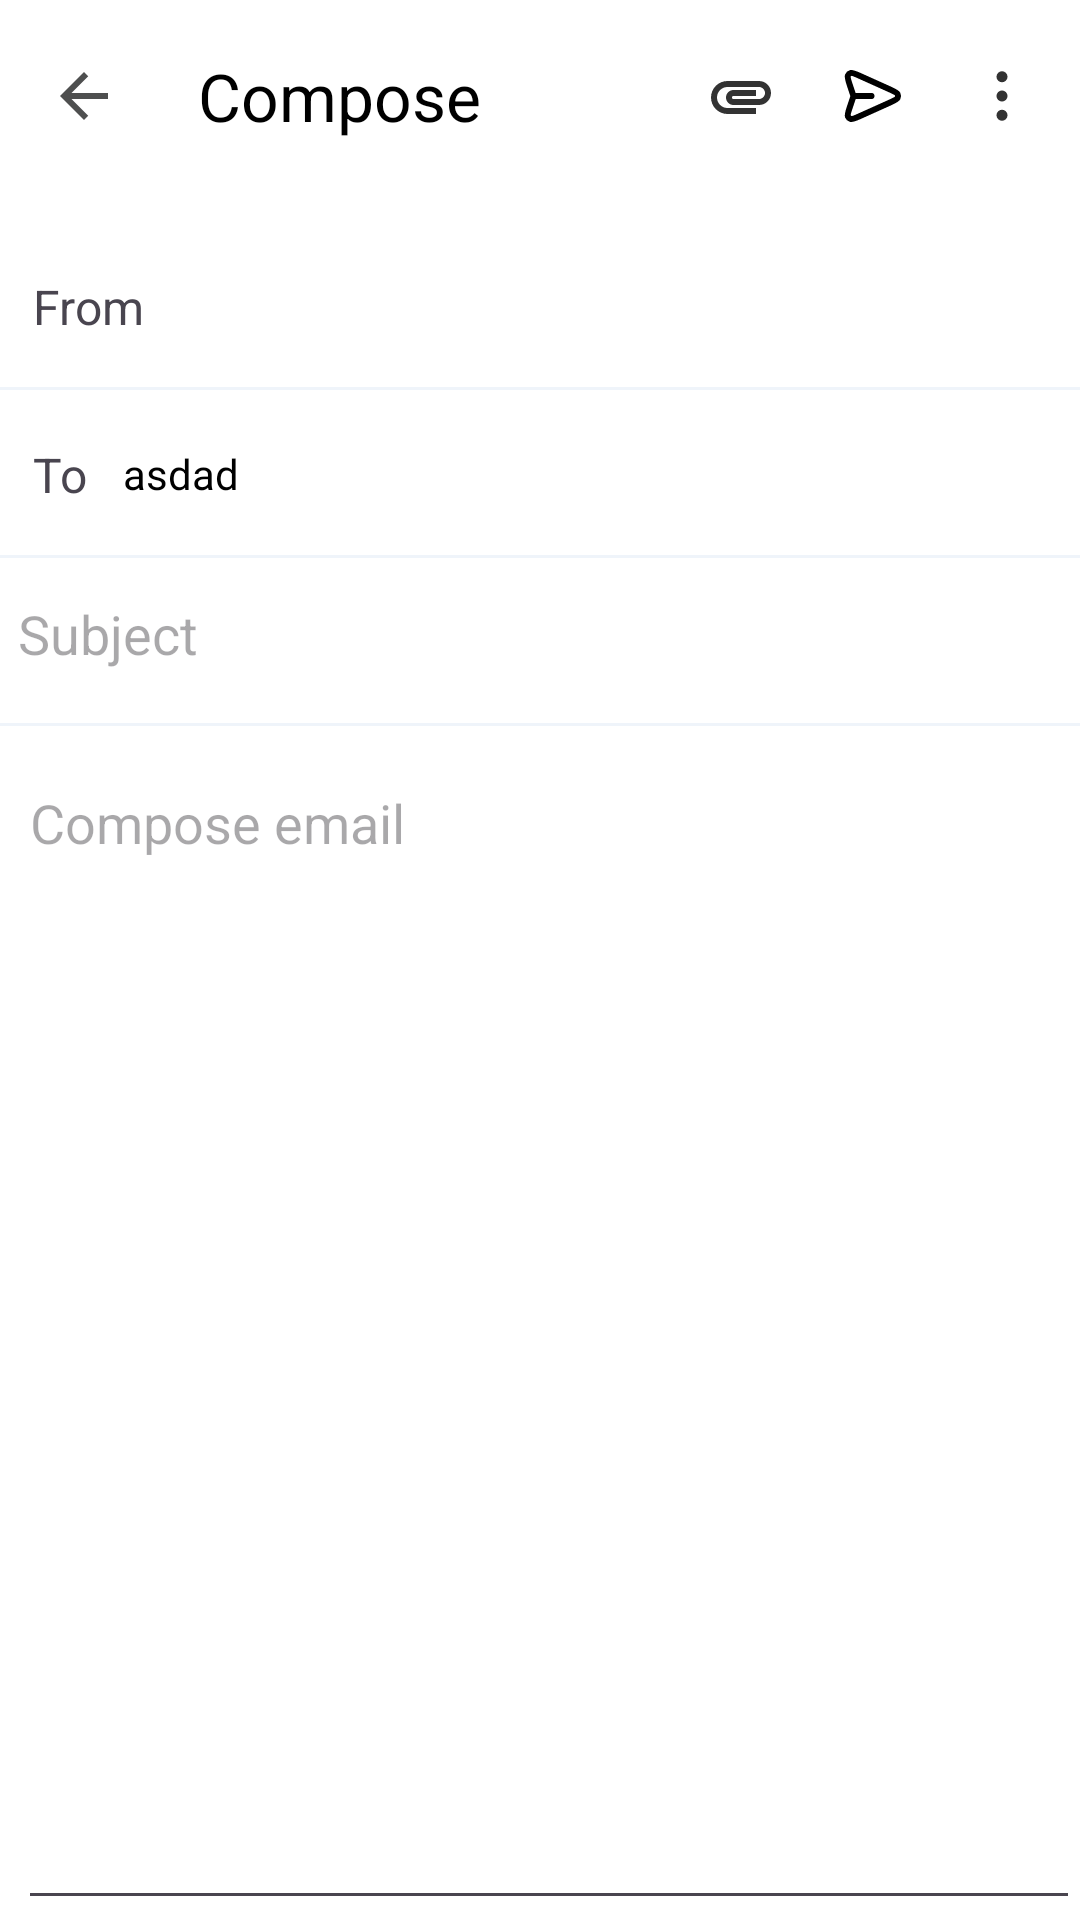

Where to tap for icons on this 1080 x 1920 app screen, as (x=x, y=y):
attachment: (x=741, y=97)
send: (x=872, y=96)
